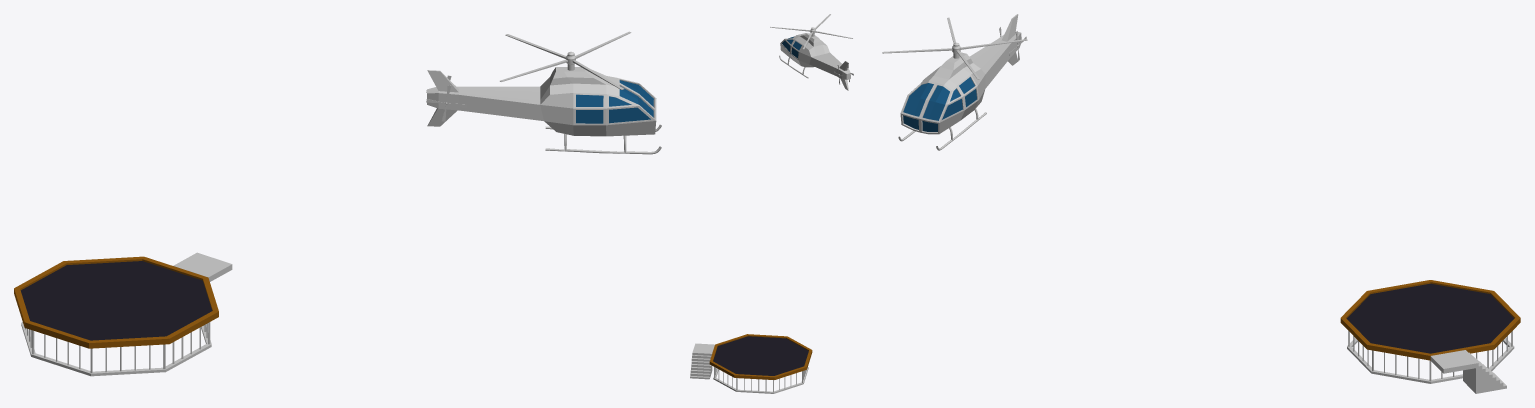
File: copter_000085.obj
The picture shows the model from 3 angles, left to right: view 1: azimuth 30°, elevation 25°; view 2: azimuth 150°, elevation 25°; view 3: azimuth 270°, elevation 25°; orthographic projection. The views are drawn at different scales.
Parts seen in each view (by area): view 1: Cylinder.001_Cylinder.012, Helicopter.007_Cylinder.008, Helicopter.001_Cylinder.001; view 2: Cylinder.001_Cylinder.012, Helicopter.007_Cylinder.008, Helicopter.001_Cylinder.001; view 3: Cylinder.001_Cylinder.012, Helicopter.007_Cylinder.008, Helicopter.001_Cylinder.001.
Boxes of the visible parts, x1,y1,x2,y2 form: Cylinder.001_Cylinder.012: [14, 252, 232, 376]; Helicopter.007_Cylinder.008: [427, 67, 661, 154]; Helicopter.001_Cylinder.001: [500, 31, 631, 89]; Cylinder.001_Cylinder.012: [690, 334, 812, 393]; Helicopter.007_Cylinder.008: [779, 33, 850, 90]; Helicopter.001_Cylinder.001: [770, 14, 852, 49]; Cylinder.001_Cylinder.012: [1340, 280, 1520, 393]; Helicopter.007_Cylinder.008: [898, 14, 1021, 150]; Helicopter.001_Cylinder.001: [882, 17, 1027, 79].
Bounding box in the file's own units: 12.76 × 15.68 × 23.99.
